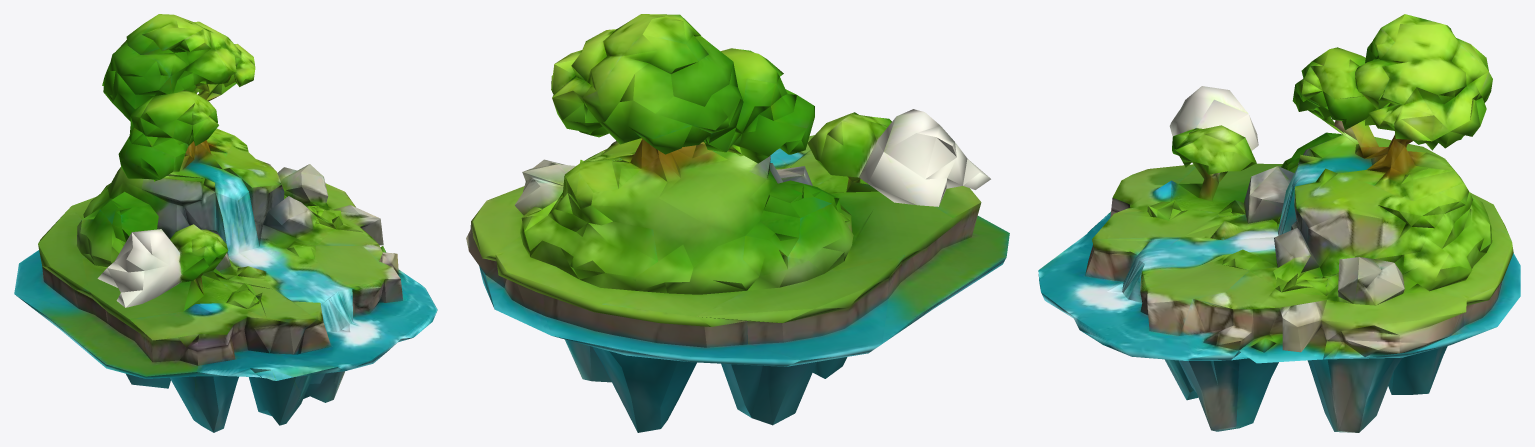
The model's file is m2SkyIslandWaterfall.glb.
The picture shows the model from 3 angles, left to right: view 1: azimuth 30°, elevation 25°; view 2: azimuth 150°, elevation 25°; view 3: azimuth 270°, elevation 25°; orthographic projection. The views are drawn at different scales.
Parts seen in each view (by area): view 1: model; view 2: model; view 3: model.
Part boxes in pixels (<box>): model: <box>14,14,437,432</box>; model: <box>466,14,1009,432</box>; model: <box>1038,14,1520,432</box>.
Bounding box in the file's own units: 1.7 × 1.62 × 1.89.
1 material, 1 textured.
